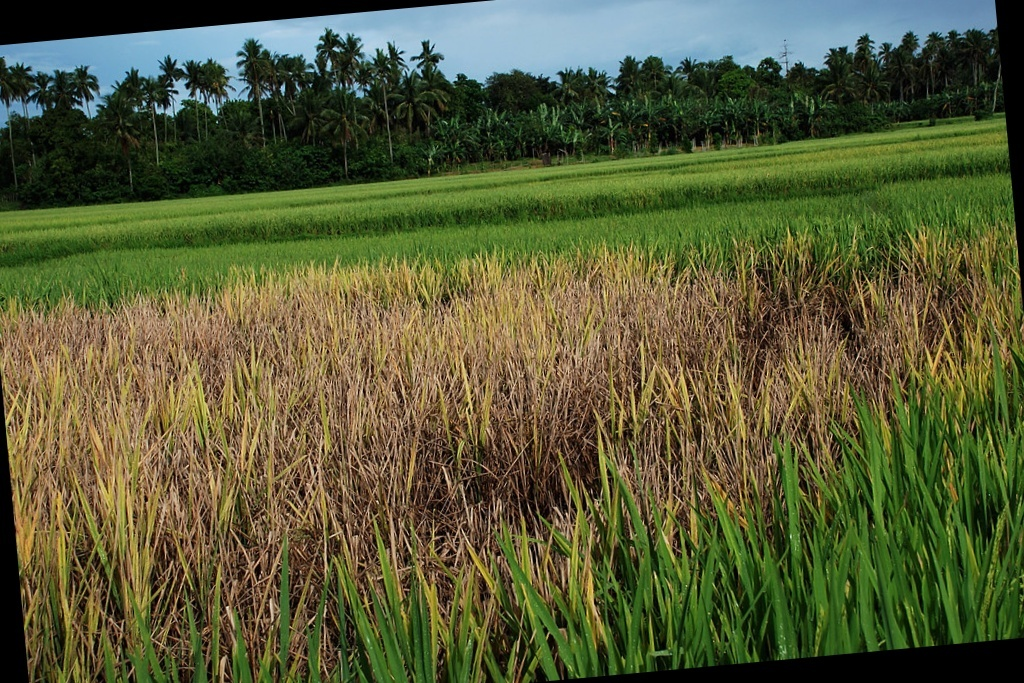Hopper_burn: (14, 272, 745, 562)
